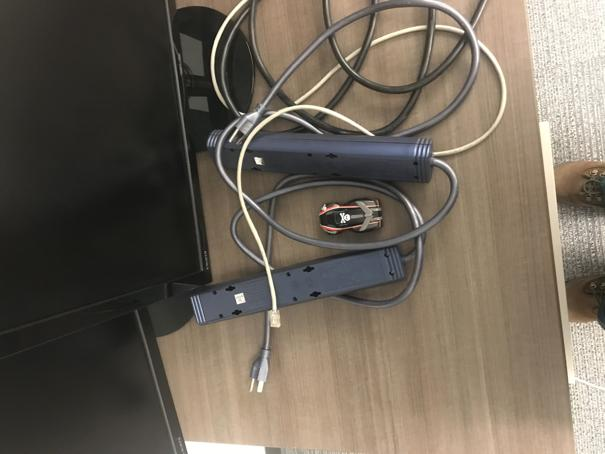Skull: (319, 198, 384, 233)
